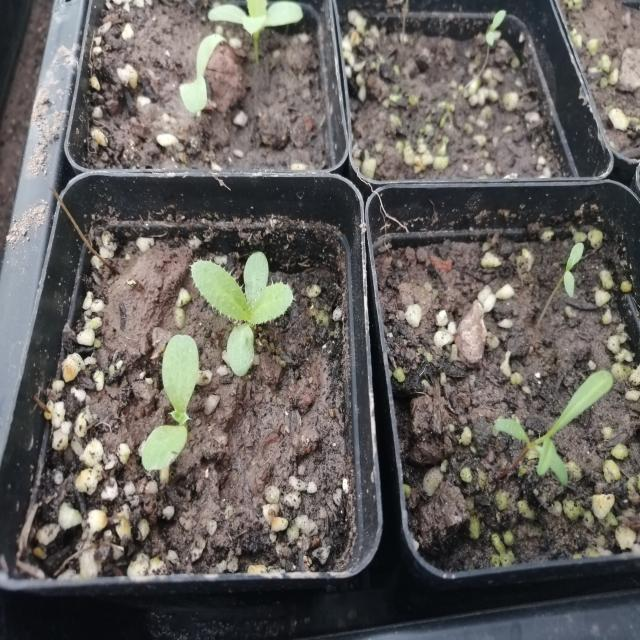field_thistle: (84, 308, 234, 471), (188, 230, 303, 385)
